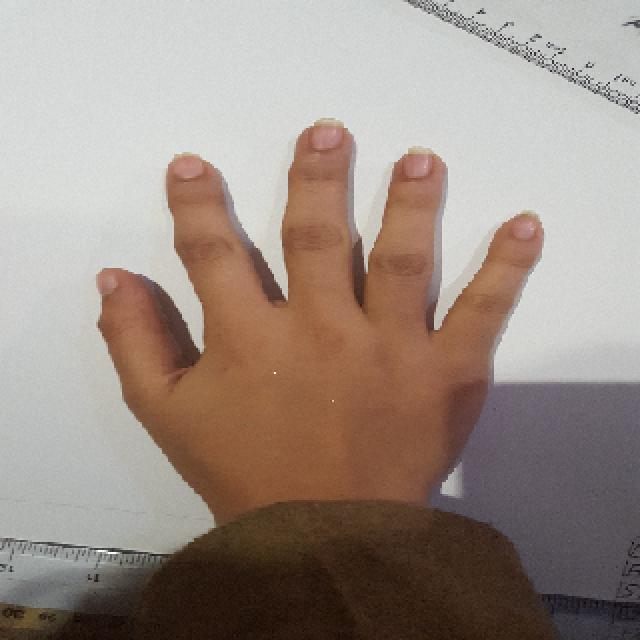Nail: (311, 119, 344, 150), (402, 146, 432, 179), (171, 155, 205, 180), (511, 212, 540, 240), (98, 269, 120, 296)
